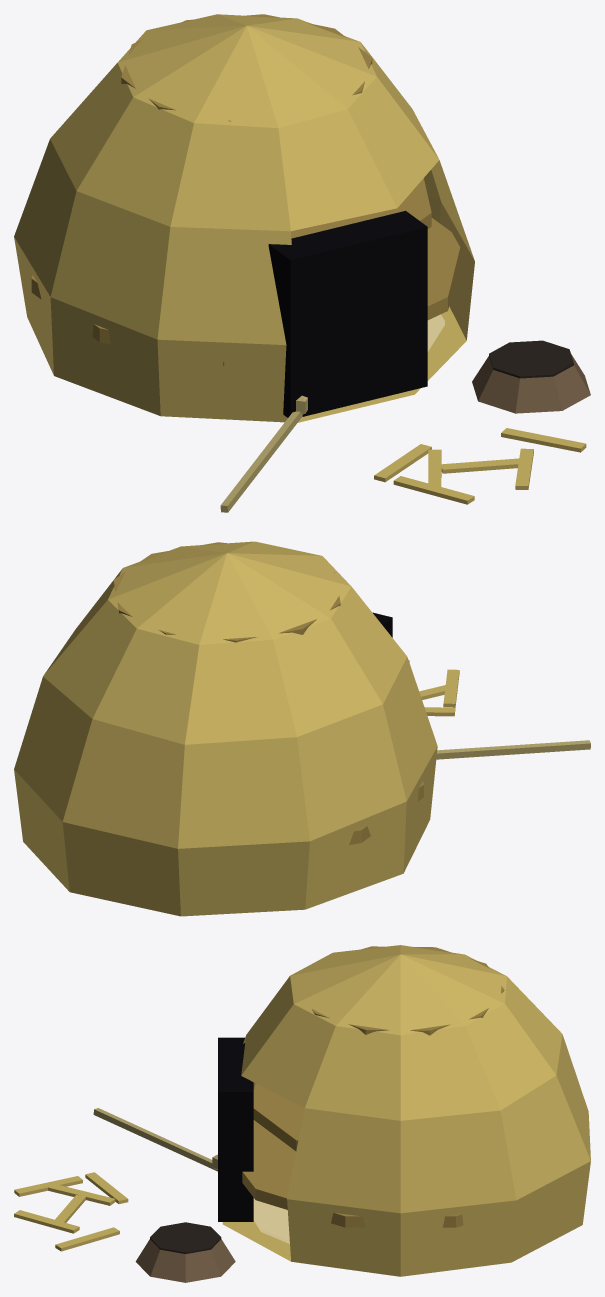
Rendered from prop_keep_gaejip.glb.
3 views of the same model, one above another, from view 1: azimuth 30°, elevation 25°; view 2: azimuth 150°, elevation 25°; view 3: azimuth 270°, elevation 25° (orthographic). The views are drawn at different scales.
Visible parts, largest first — view 1: prop_keep_gaejip; view 2: prop_keep_gaejip; view 3: prop_keep_gaejip, Glow.
Boxes of the visible parts, x1,y1,x2,y2 form: prop_keep_gaejip: (14, 14, 590, 512); prop_keep_gaejip: (14, 541, 590, 916); prop_keep_gaejip: (14, 945, 590, 1282); Glow: (254, 1199, 289, 1243).
Bounding box in the file's own units: 1.1 × 0.76 × 1.61.
